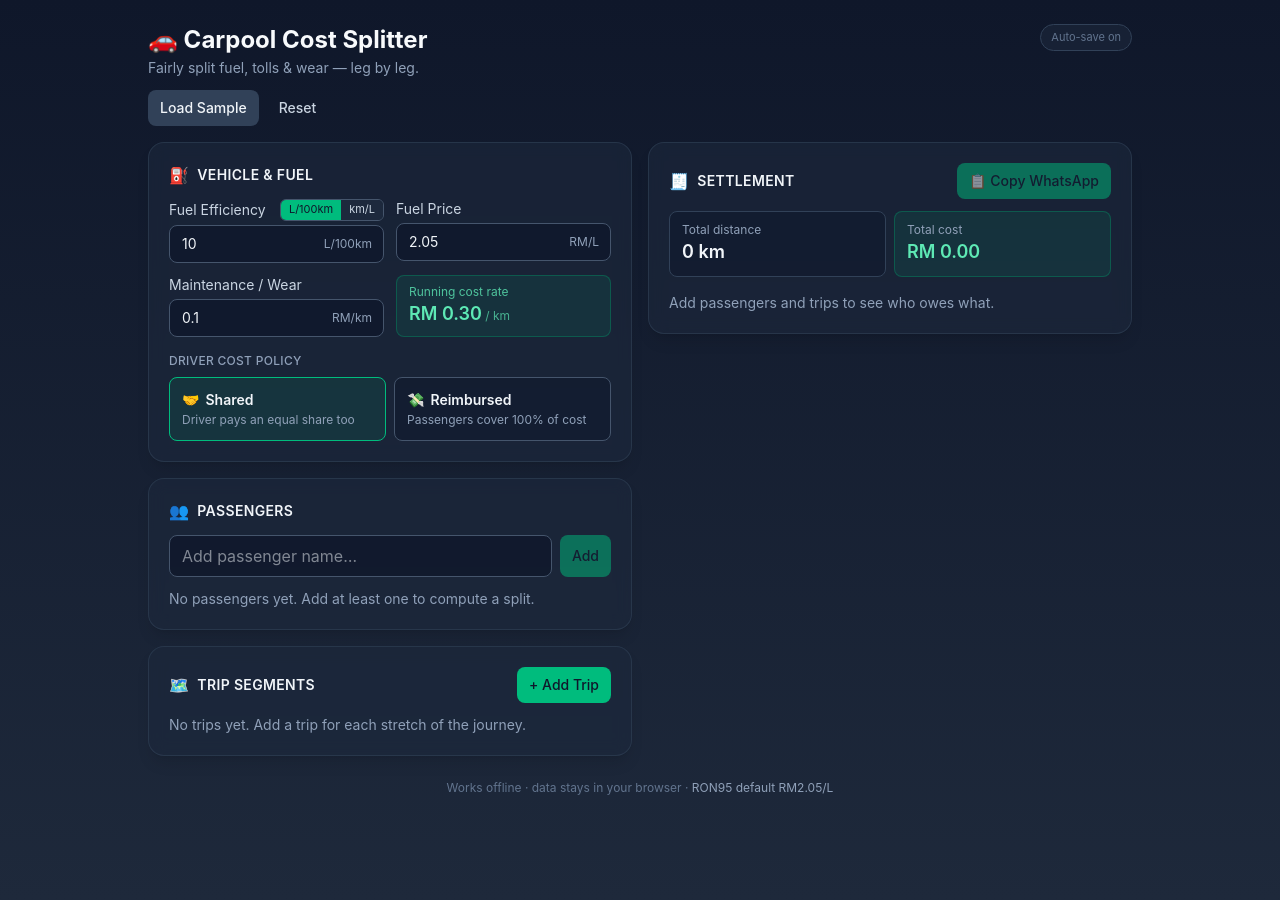
App integration › warns when a trip has distance but no passengers
# Add a trip while the roster is empty, so nobody is on the trip.
Click the button "+ Add Trip" at (564, 685), box [517, 667, 611, 703]
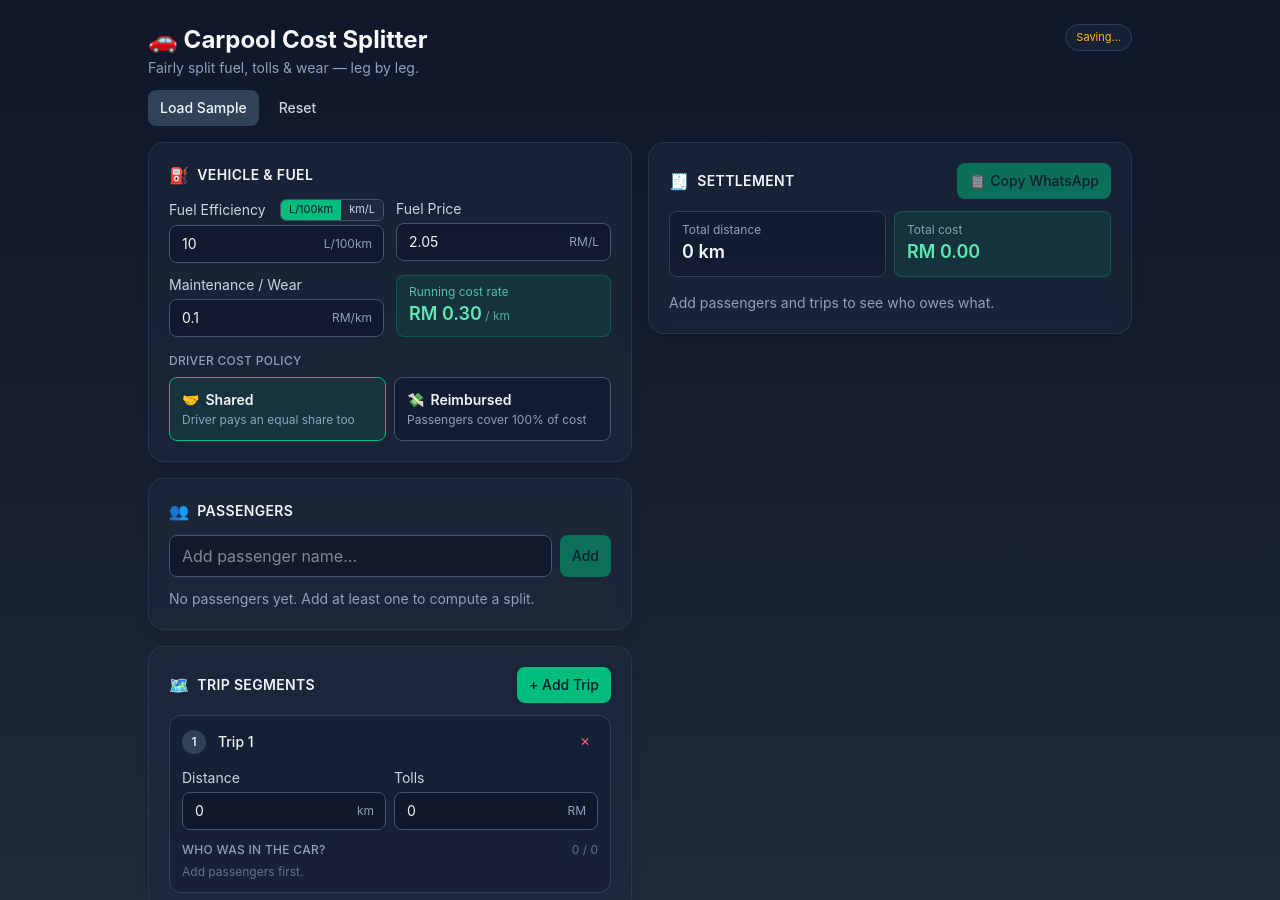
Replace the text in the number field labelled "Distance km" with "10" at (284, 811), box [182, 792, 386, 830]
(page scrolled)
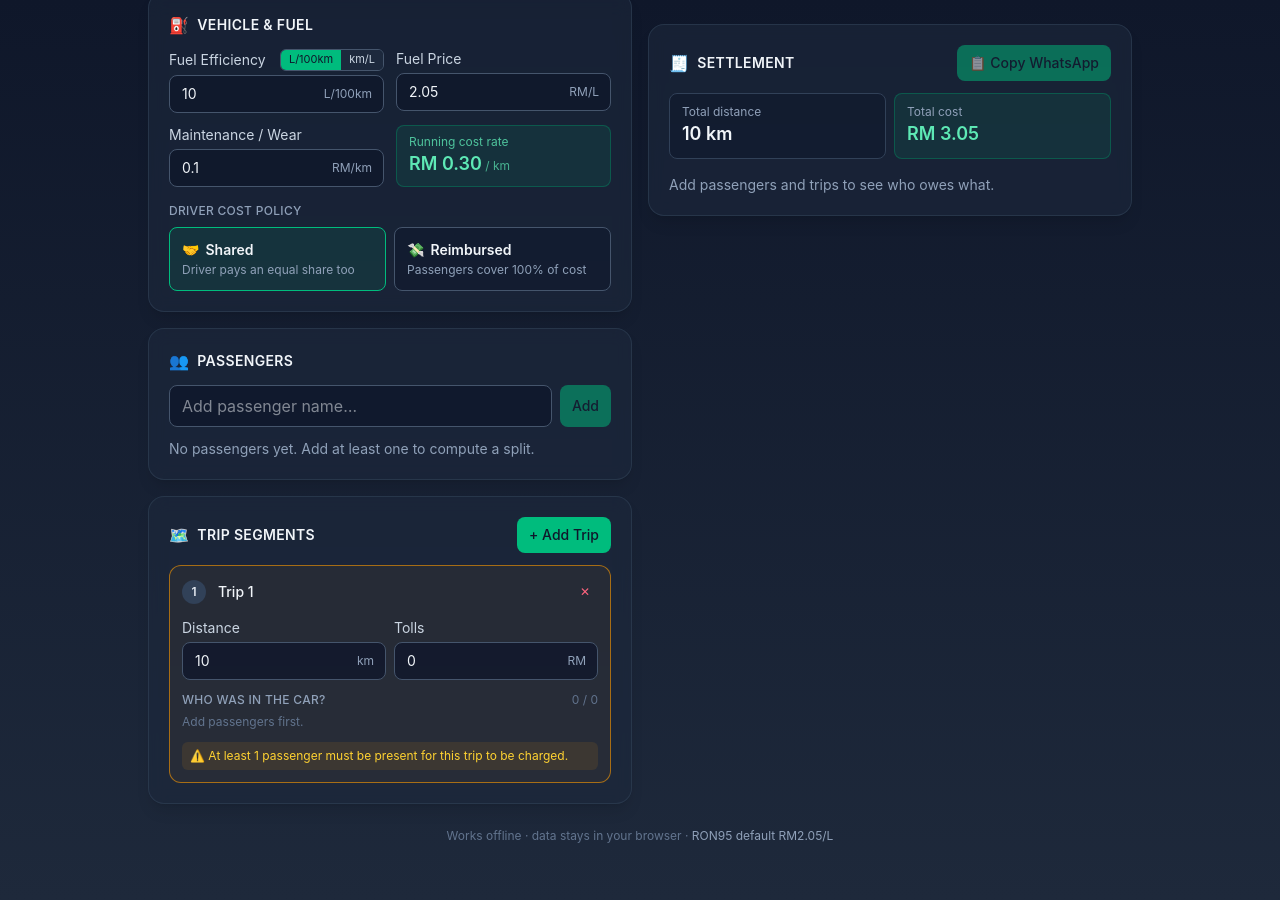
Expected: the text "At least 1 passenger must be present" is shown, [190, 748, 568, 763]
